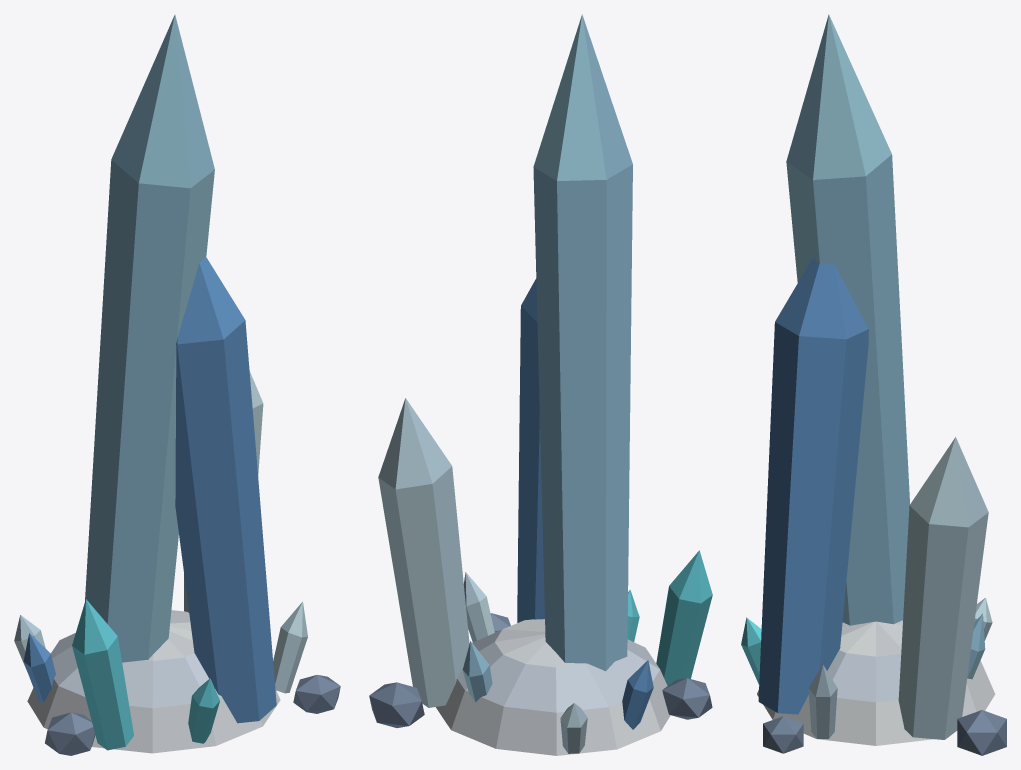
The model's file is Decor_IcePalace_Spires.fbx.
3 renders of one model, left to right at view 1: azimuth 30°, elevation 25°; view 2: azimuth 150°, elevation 25°; view 3: azimuth 270°, elevation 25°, orthographic. The views are drawn at different scales.
Parts seen in each view (by area): view 1: Spires_Body; view 2: Spires_Body; view 3: Spires_Body.
Part boxes in pixels (x1,y1,x2,y2): Spires_Body: (14, 14, 340, 755); Spires_Body: (369, 14, 712, 755); Spires_Body: (741, 14, 1006, 755).
Size of the model in its own units: 10.3 by 26 by 9.1.
